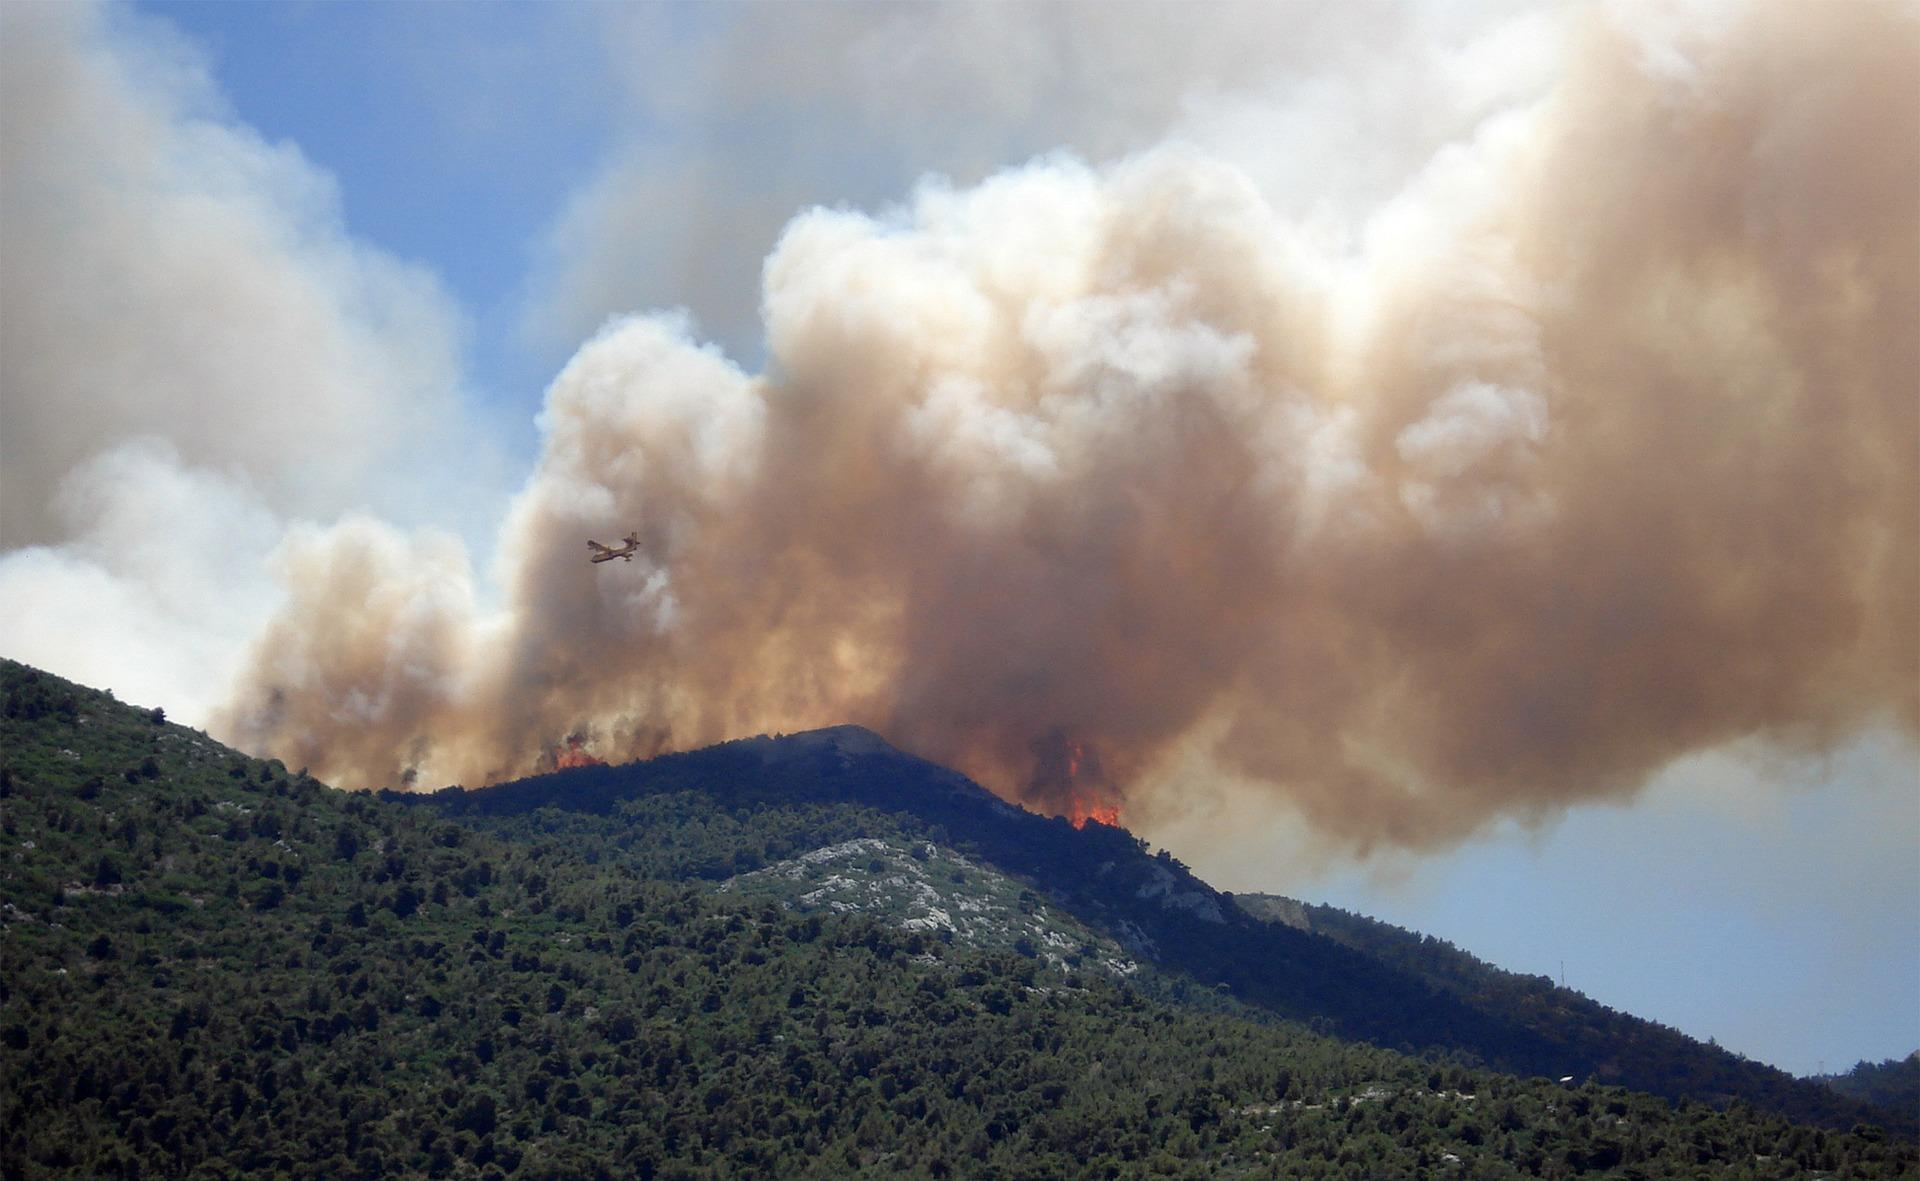smoke: (213, 126, 1798, 842)
